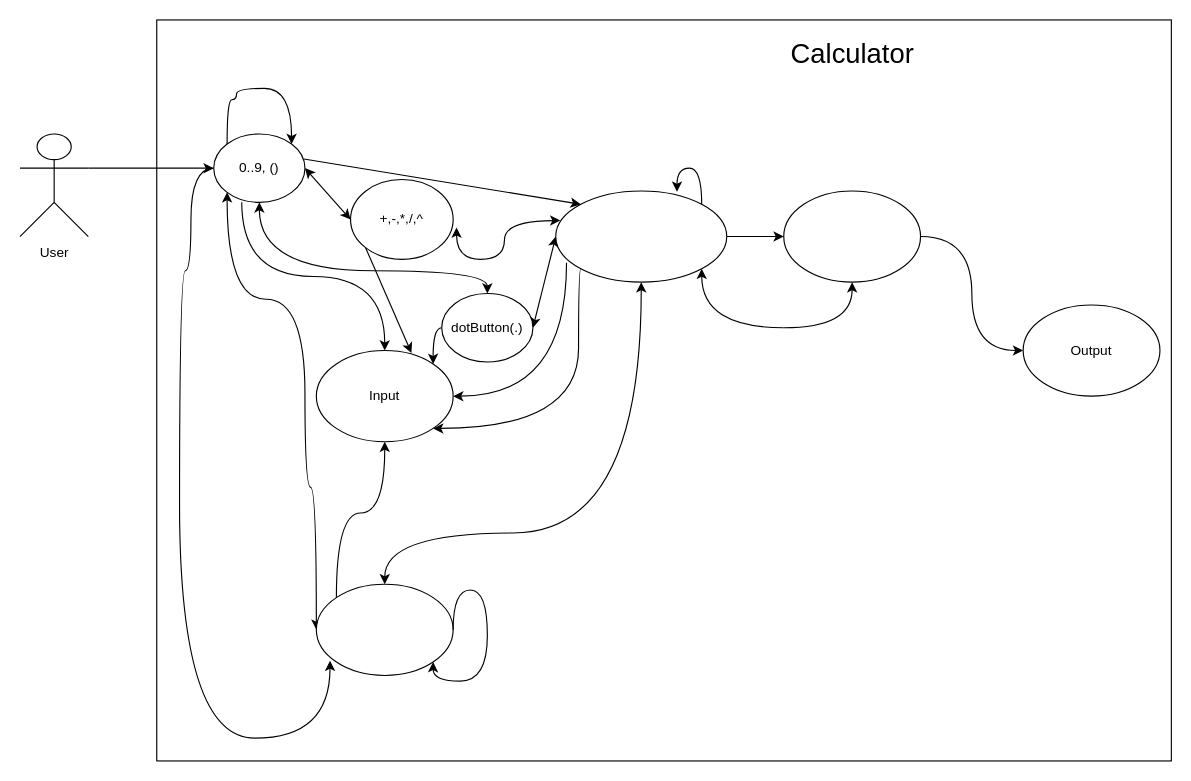
This 1191x781 diagram has some shape labels left out. Here are the shapes that lost their labels. From the top down, the centre of each, then its label:
the point at 641,236: ClearButton onClick: 1 char onLongClick: clearAll
the point at 852,236: EqualButton
the point at 384,629: sin, cos, tan, ln, sqrt, fact, x^2, x^y
